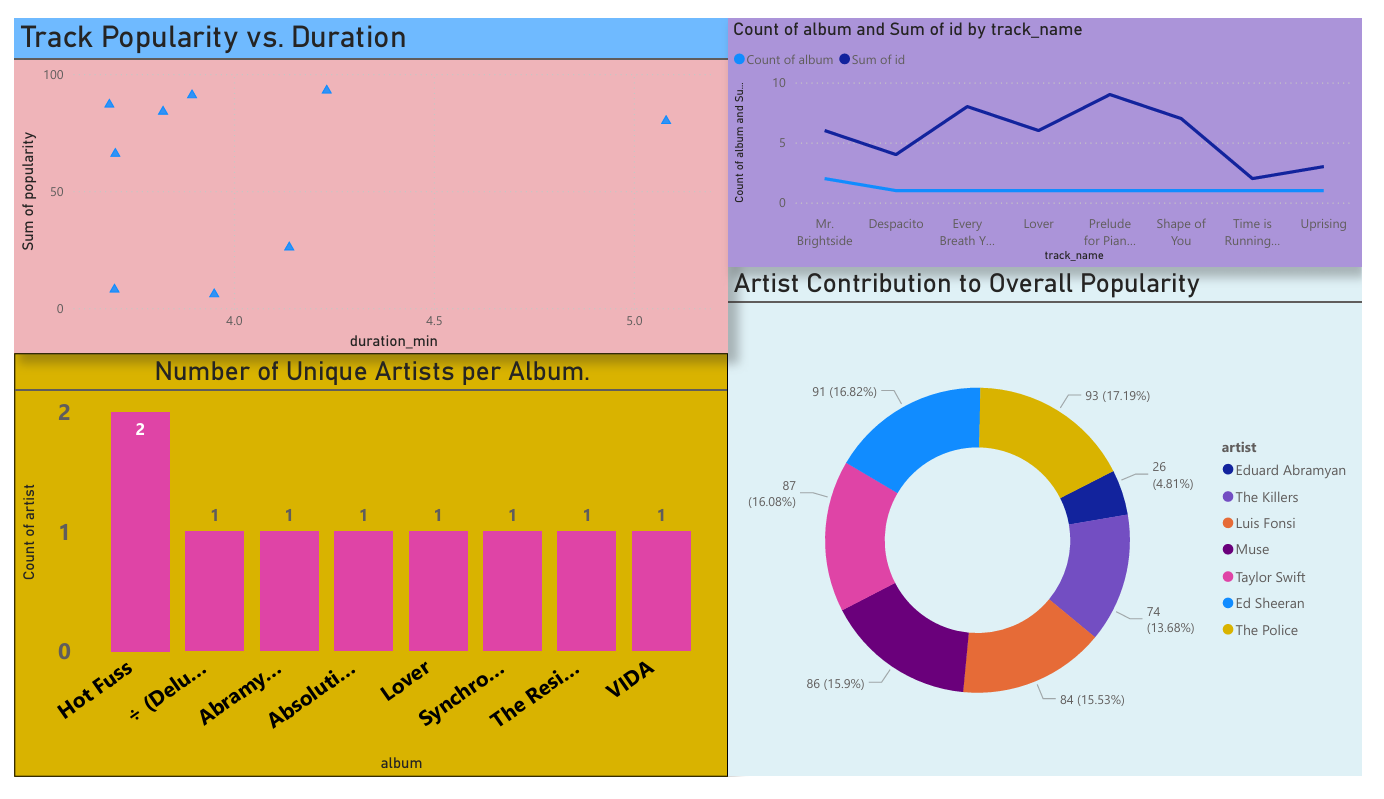

The page's visual inventory and layout, read from the dashboard file:
{"tool":"powerbi","page":{"name":"Page 1","canvas":[1280,720],"ordinal":0},"visuals":[{"type":"clusteredColumnChart","title":"Number of Unique Artists per Album.","fields":{"Category":["spotify_db spotify_tracks.album"],"Y":["spotify_db spotify_tracks.artist"]},"box":[0,318.4,677.9,402.1],"z":0},{"type":"donutChart","title":"Artist Contribution to Overall Popularity","fields":{"Category":["spotify_db spotify_tracks.artist"],"Y":["spotify_db spotify_tracks.popularity"]},"box":[677.9,236,602.4,484.4],"z":1000},{"type":"scatterChart","title":" Track Popularity vs. Duration","fields":{"X":["spotify_db spotify_tracks.duration_min"],"Y":["spotify_db spotify_tracks.popularity"]},"box":[0,0,677.9,318.4],"z":1001},{"type":"lineChart","fields":{"Category":["spotify_db spotify_tracks.track_name"],"Y":["spotify_db spotify_tracks.album","spotify_db spotify_tracks.id"]},"box":[678,0,602,236],"z":1002}]}

Visuals, with their boxes in screenshot pixels (x1, y1, x2, y2), scaled from the page's 1280x720 canvas onto the 1384x799 screenshot:
"Number of Unique Artists per Album." clusteredColumnChart: BBox(0, 353, 733, 798)
"Artist Contribution to Overall Popularity" donutChart: BBox(733, 262, 1383, 798)
" Track Popularity vs. Duration" scatterChart: BBox(0, 0, 733, 353)
lineChart - spotify_db spotify_tracks.track_name x spotify_db spotify_tracks.album: BBox(733, 0, 1383, 262)
